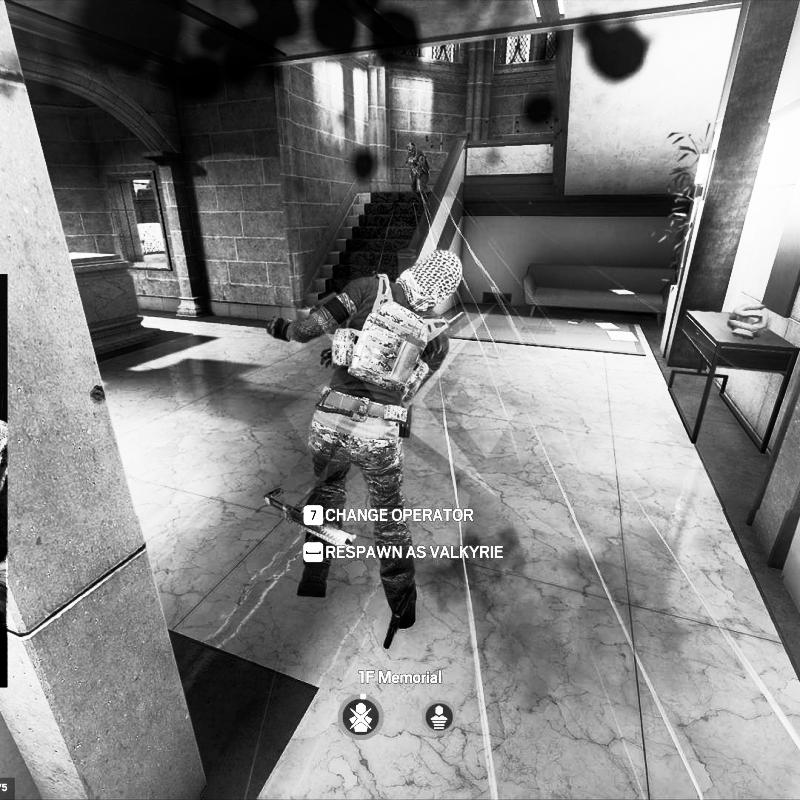Character: (263, 246, 467, 631), (404, 142, 432, 197)
Head: (400, 249, 465, 310), (406, 142, 416, 156)
